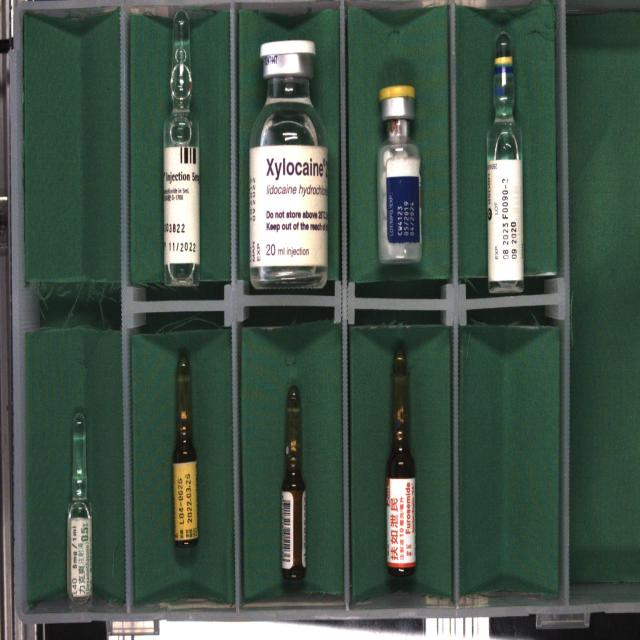Vials: (249, 41, 329, 289), (378, 85, 421, 263)
